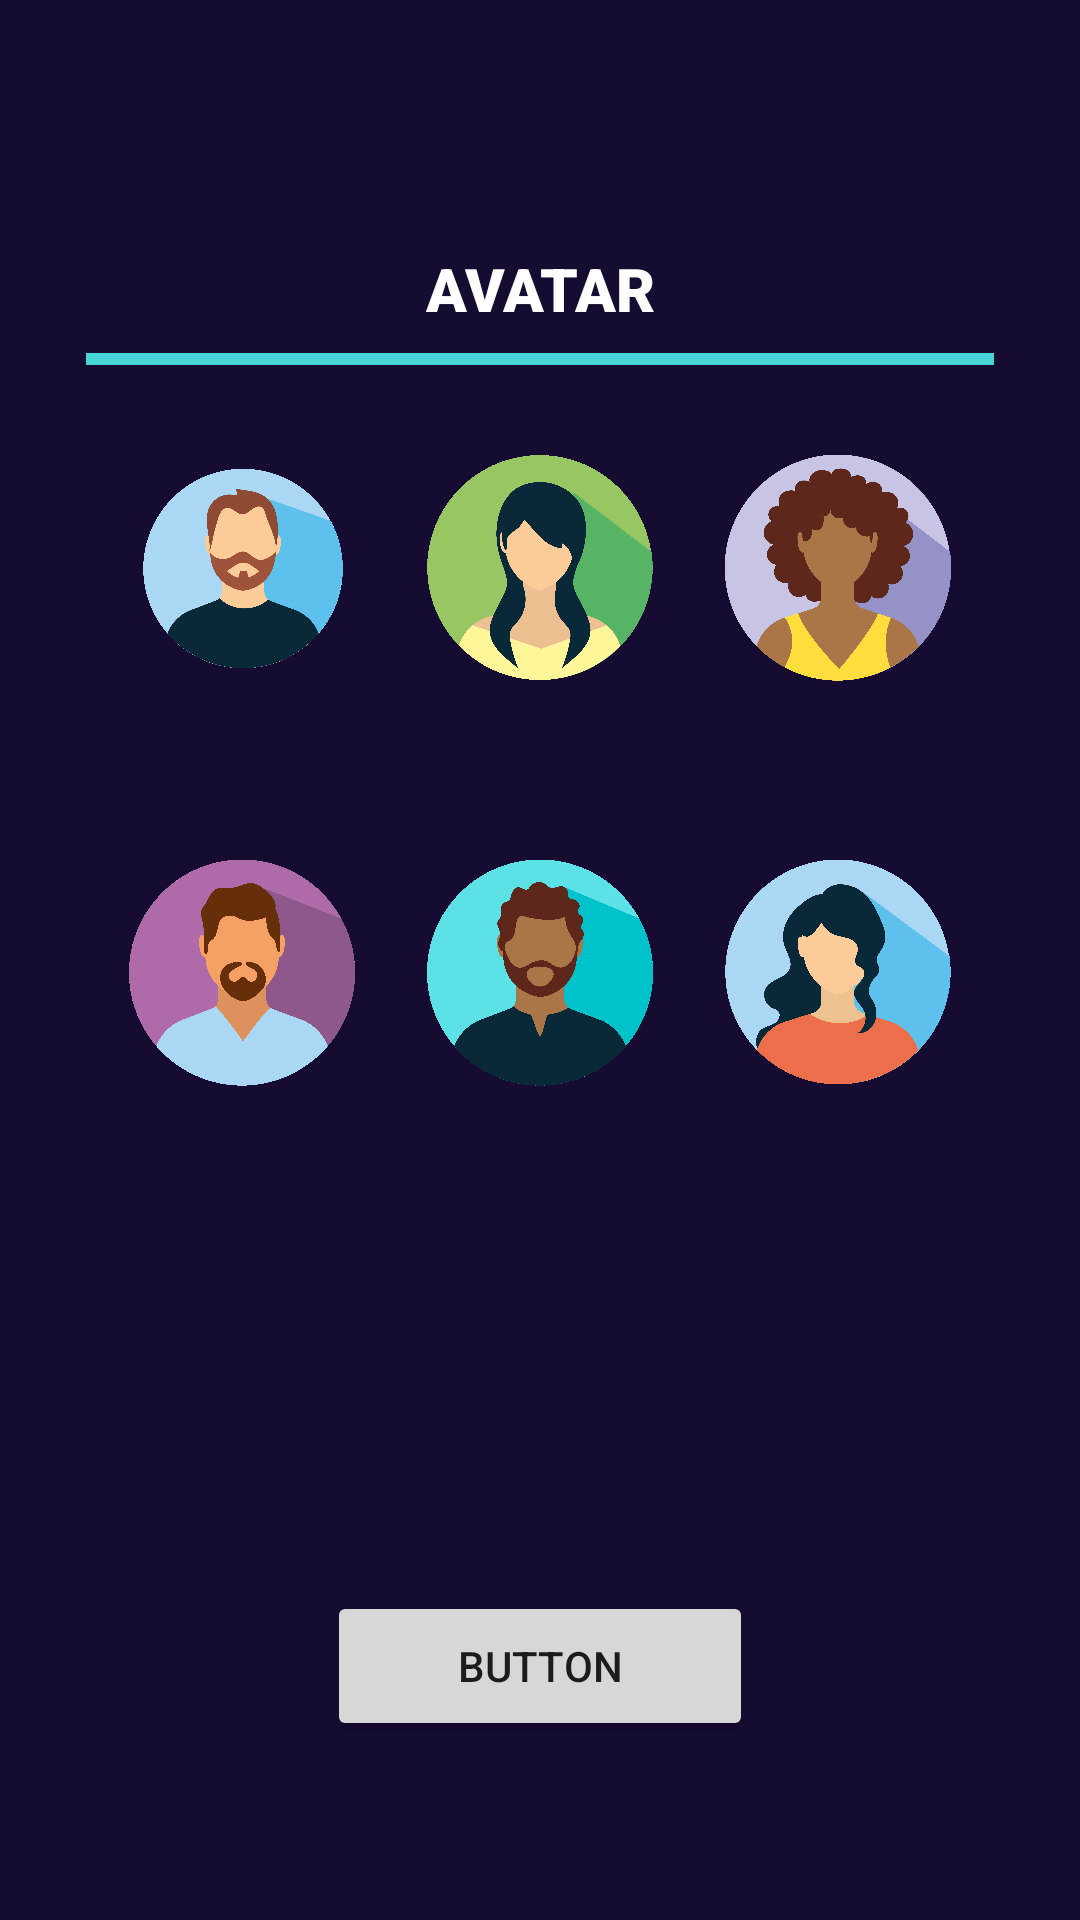

Icon bounding boxes for this 1080×1920 phone screenshot, format [x1=x1, y1=y1, x2=x2, y2=y2]:
profile: [x1=427, y1=455, x2=653, y2=680], [x1=725, y1=455, x2=951, y2=681], [x1=143, y1=469, x2=343, y2=668], [x1=129, y1=860, x2=355, y2=1086], [x1=427, y1=860, x2=653, y2=1086], [x1=725, y1=860, x2=951, y2=1084]
